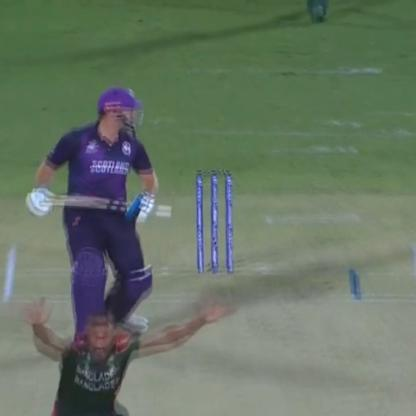bat: (22, 191, 174, 222)
pitch: (0, 242, 415, 415)
